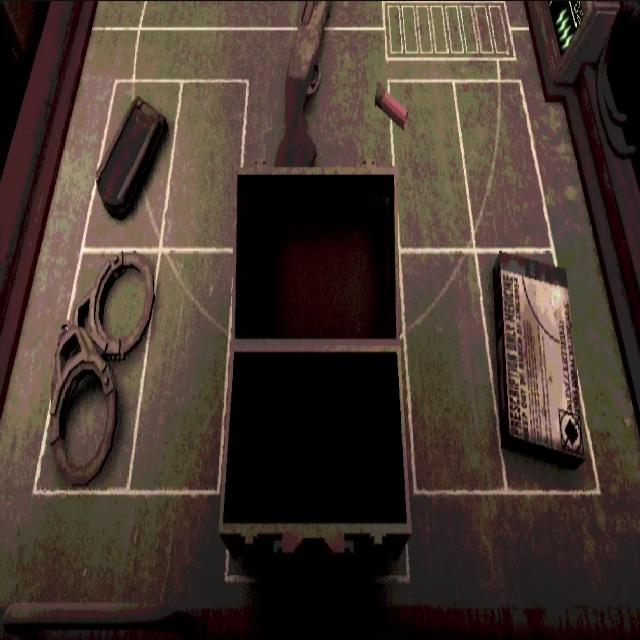expired-medicine: (493, 252, 585, 466)
handcuff: (46, 251, 154, 485)
inventorybox: (220, 168, 410, 559)
phone: (96, 98, 167, 217)
